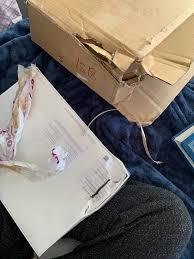damage_box: (25, 0, 194, 127)
